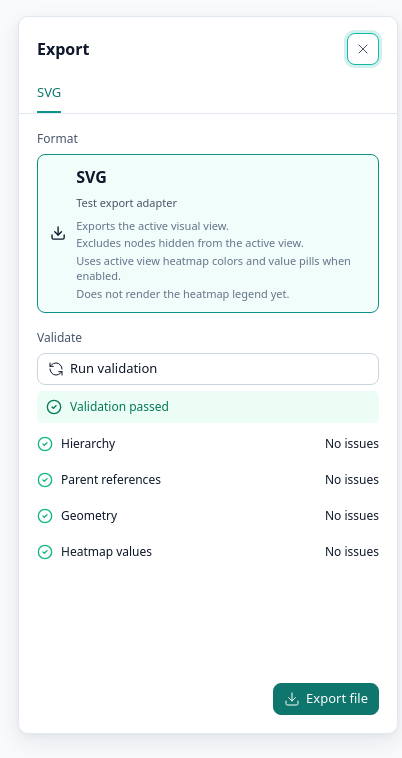
Test: editor export workflows › treats canceling the native save dialog as a canceled export
The image size is (402, 758).
Click the button "Export file".
click(326, 699)  # box x1=273 y1=683 x2=379 y2=715
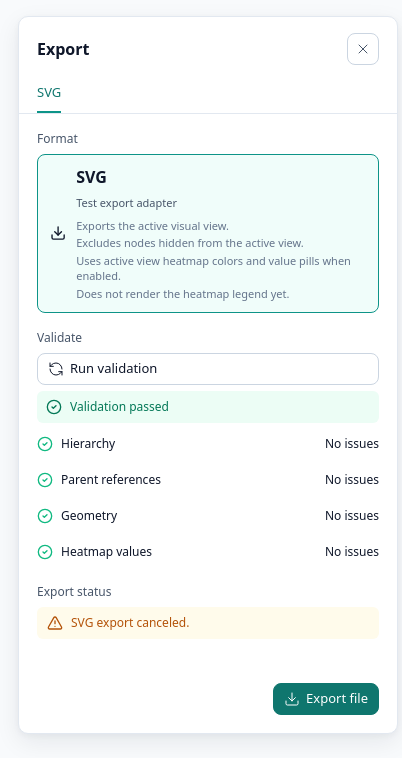
expect the message reads "SVG export canceled.": met, box x1=71 y1=614 x2=189 y2=631
